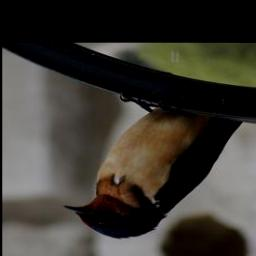Swallow: (62, 90, 246, 241)
